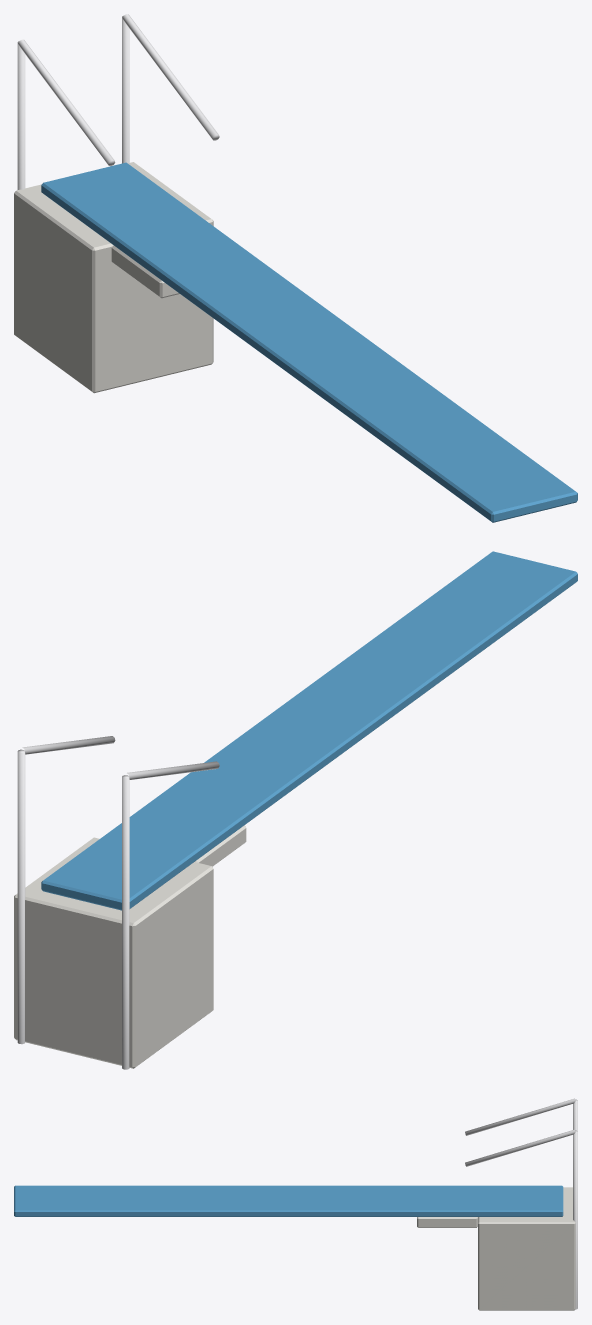
Rendered from diving_board.glb.
3 views of the same model, one above another, from view 1: azimuth 30°, elevation 25°; view 2: azimuth 150°, elevation 25°; view 3: azimuth 270°, elevation 25° (orthographic). The views are drawn at different scales.
Parts seen in each view (by area): view 1: diving_board; view 2: diving_board; view 3: diving_board.
Part boxes in pixels (x1,y1,x2,y2): diving_board: [14, 14, 577, 522]; diving_board: [14, 551, 577, 1069]; diving_board: [14, 1098, 577, 1310].
Bounding box in the file's own units: 0.7 × 1.62 × 4.62.
